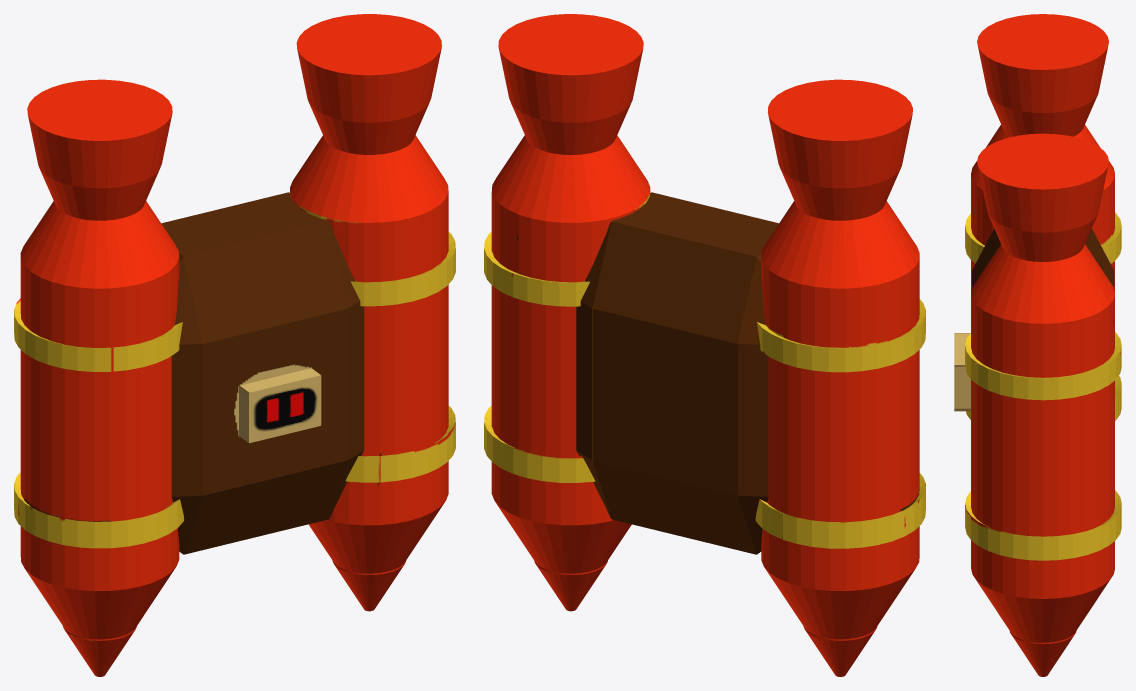
File: JetPack.fbx
3 views of the same model, side by side, from view 1: azimuth 30°, elevation 25°; view 2: azimuth 150°, elevation 25°; view 3: azimuth 270°, elevation 25° (orthographic). The views are drawn at different scales.
Parts seen in each view (by area): view 1: Cube.001; view 2: Cube.001; view 3: Cube.001.
Part boxes in pixels (left/top/right/bottom): Cube.001: left=14, top=14, right=455, bottom=676; Cube.001: left=484, top=14, right=925, bottom=676; Cube.001: left=954, top=14, right=1121, bottom=676.
Bounding box in the file's own units: 338 × 435 × 129.
Materials: 1 (1 with a texture image).
